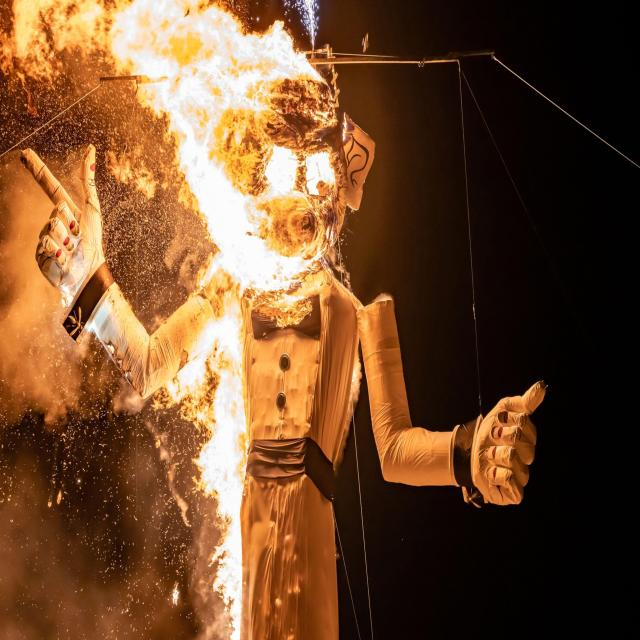fire: (0, 0, 339, 298), (170, 304, 244, 640)
